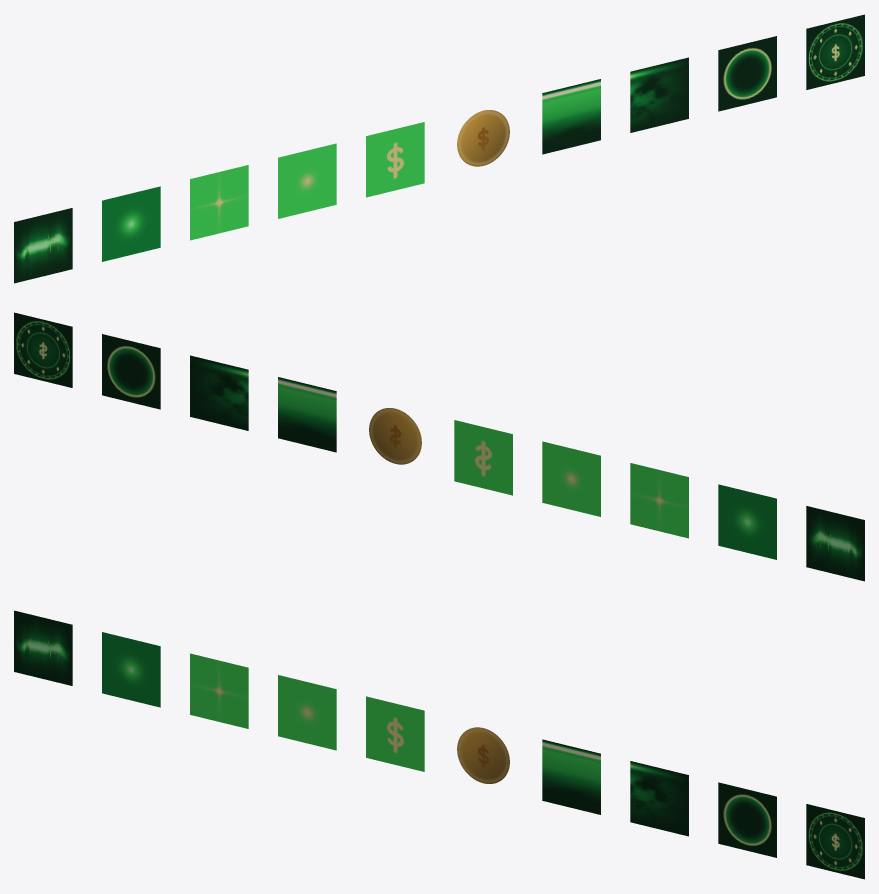
File: MoneyStaffVFX.fbx
The picture shows the model from 3 angles, top to bottom: view 1: azimuth 30°, elevation 25°; view 2: azimuth 150°, elevation 25°; view 3: azimuth 330°, elevation 25°; orthographic projection.
Visible parts, largest first — view 1: Tex_Glow, Tex_GroundCircle, Tex_ShockRing, Tex_Sparkle, Tex_Trail, Tex_Wisp, Tex_Dollar, Tex_Mote, Tex_SlashBand, Tex_Coin; view 2: Tex_Glow, Tex_GroundCircle, Tex_ShockRing, Tex_Sparkle, Tex_Trail, Tex_Wisp, Tex_Dollar, Tex_Mote, Tex_SlashBand, Tex_Coin; view 3: Tex_Glow, Tex_GroundCircle, Tex_ShockRing, Tex_Sparkle, Tex_Trail, Tex_Wisp, Tex_Dollar, Tex_Mote, Tex_SlashBand, Tex_Coin.
Part boxes in pixels (x1=…): Tex_Glow: x1=102, y1=186, x2=160, y2=261; Tex_GroundCircle: x1=806, y1=14, x2=864, y2=89; Tex_ShockRing: x1=718, y1=36, x2=776, y2=111; Tex_Sparkle: x1=190, y1=165, x2=248, y2=240; Tex_Trail: x1=630, y1=57, x2=688, y2=132; Tex_Wisp: x1=14, y1=208, x2=72, y2=283; Tex_Dollar: x1=366, y1=122, x2=424, y2=197; Tex_Mote: x1=278, y1=143, x2=336, y2=218; Tex_SlashBand: x1=542, y1=79, x2=600, y2=154; Tex_Coin: x1=457, y1=110, x2=509, y2=166; Tex_Glow: x1=718, y1=484, x2=776, y2=559; Tex_GroundCircle: x1=14, y1=312, x2=72, y2=387; Tex_ShockRing: x1=102, y1=334, x2=160, y2=409; Tex_Sparkle: x1=630, y1=463, x2=688, y2=538; Tex_Trail: x1=190, y1=355, x2=248, y2=430; Tex_Wisp: x1=806, y1=506, x2=864, y2=581; Tex_Dollar: x1=454, y1=420, x2=512, y2=495; Tex_Mote: x1=542, y1=441, x2=600, y2=516; Tex_SlashBand: x1=278, y1=377, x2=336, y2=452; Tex_Coin: x1=369, y1=408, x2=421, y2=464; Tex_Glow: x1=102, y1=632, x2=160, y2=707; Tex_GroundCircle: x1=806, y1=804, x2=864, y2=879; Tex_ShockRing: x1=718, y1=782, x2=776, y2=857; Tex_Sparkle: x1=190, y1=653, x2=248, y2=728; Tex_Trail: x1=630, y1=761, x2=688, y2=836; Tex_Wisp: x1=14, y1=610, x2=72, y2=685; Tex_Dollar: x1=366, y1=696, x2=424, y2=771; Tex_Mote: x1=278, y1=675, x2=336, y2=750; Tex_SlashBand: x1=542, y1=739, x2=600, y2=814; Tex_Coin: x1=457, y1=727, x2=509, y2=783.
Size of the model in its own units: 2.9 by 0.2 by 0.
10 materials, 10 textured.
